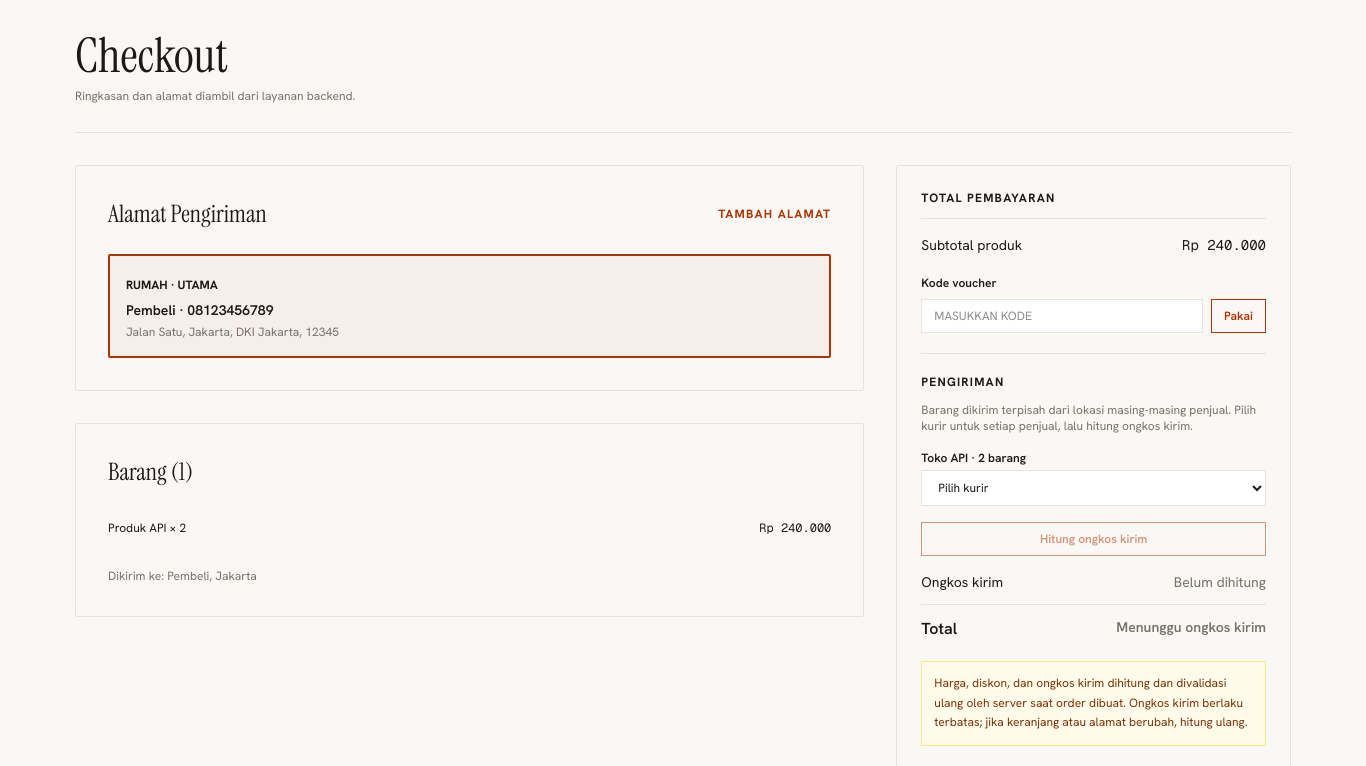
CheckoutPage › sends only the voucher code for server-side validation
Step 1. Type "hemat10" into the field labelled "Kode voucher" → (1062, 316), box left=921, top=299, right=1203, bottom=333
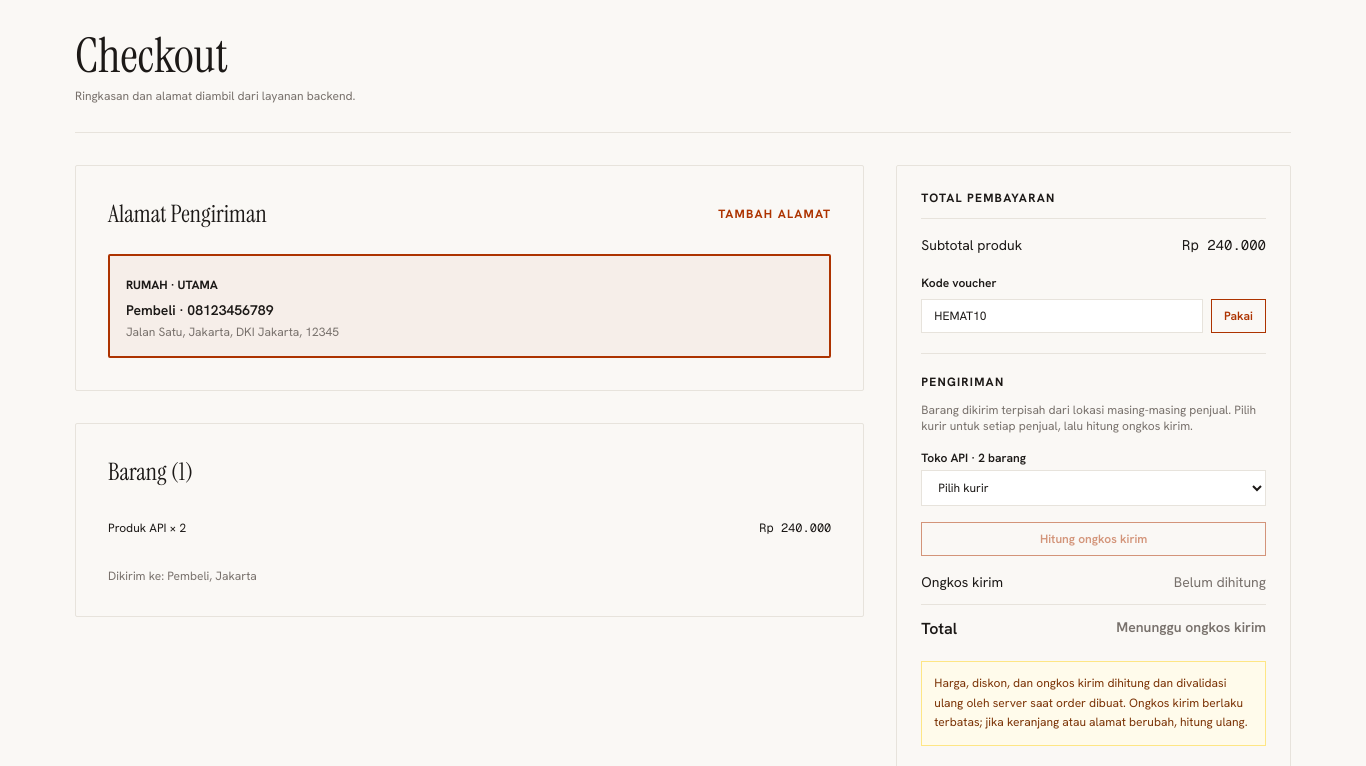
Step 2. Click the button "Pakai" → (1238, 316), box left=1211, top=299, right=1266, bottom=333
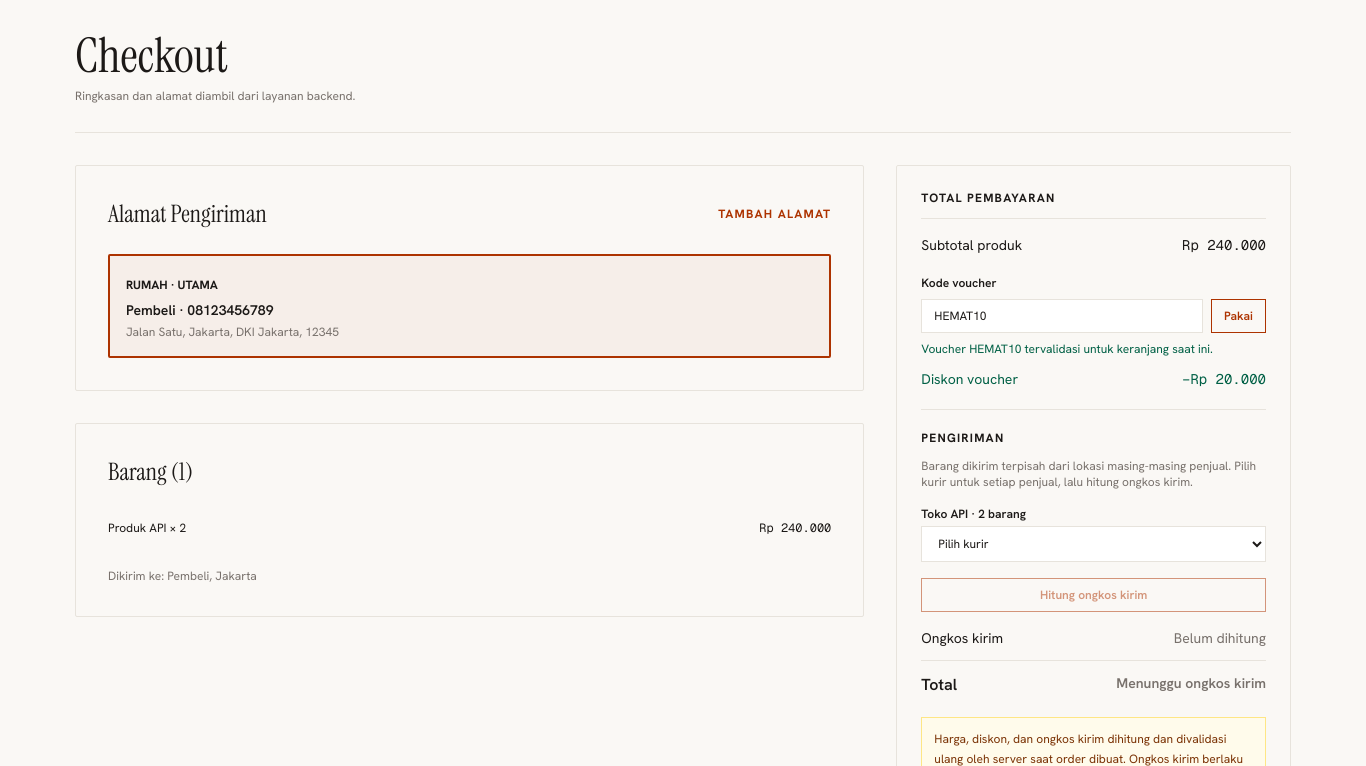
Check: the text "Voucher HEMAT10 tervalidasi untuk keranjang saat ini." is shown, box left=921, top=341, right=1213, bottom=357
